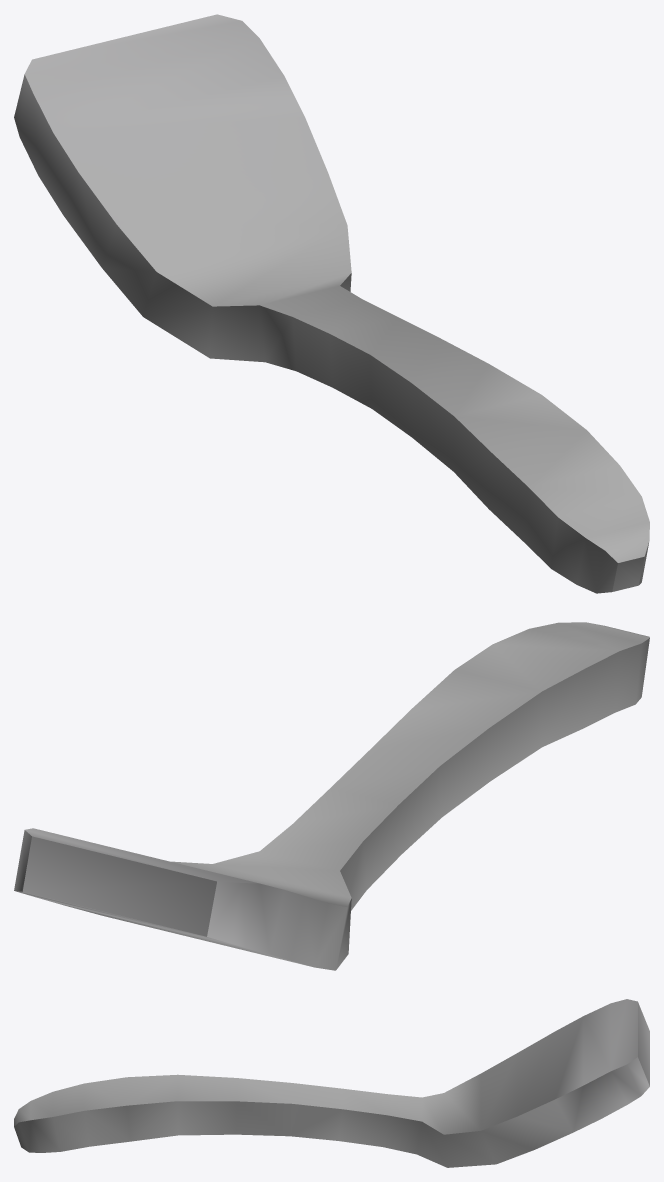
Rendered from Spatula_02.fbx.
3 views of the same model, one above another, from view 1: azimuth 30°, elevation 25°; view 2: azimuth 150°, elevation 25°; view 3: azimuth 270°, elevation 25° (orthographic). The views are drawn at different scales.
Parts seen in each view (by area): view 1: Spatula_02; view 2: Spatula_02; view 3: Spatula_02.
Part boxes in pixels (box(x1,y1,x2,y2)): Spatula_02: box(14, 14, 649, 593); Spatula_02: box(14, 622, 649, 970); Spatula_02: box(14, 999, 649, 1167).
Size of the model in its own units: 18.98 by 15 by 73.36.
